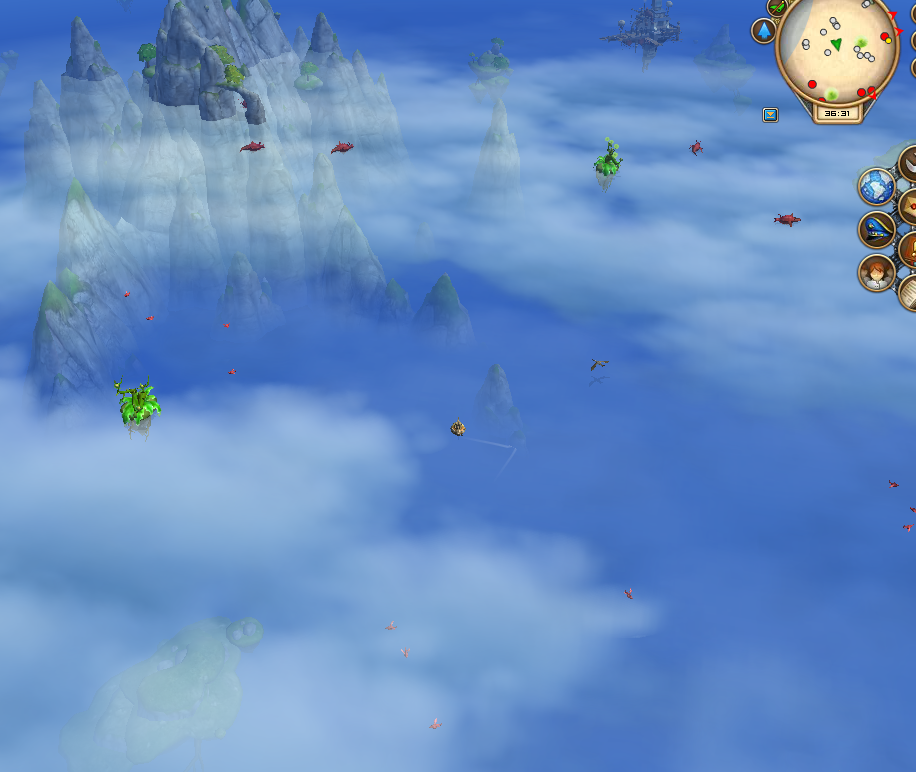dandelion-empty: (109, 376, 161, 438)
dandelion-full: (591, 131, 622, 190)
